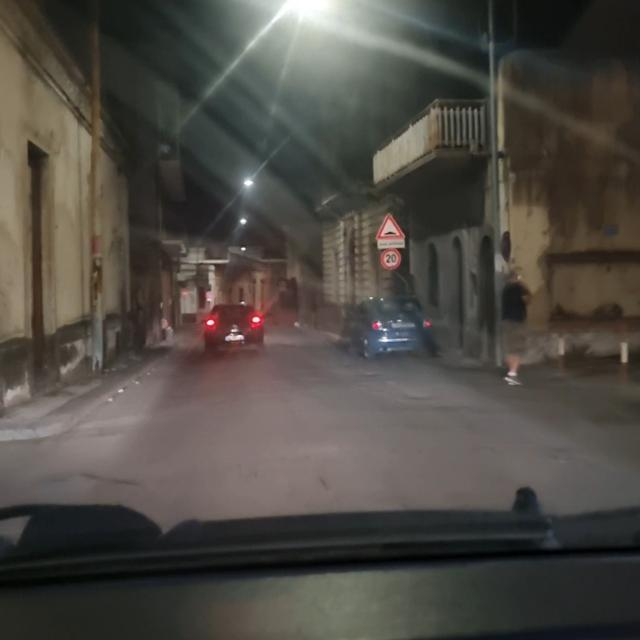forb_speed_over_20: (380, 247, 402, 271)
